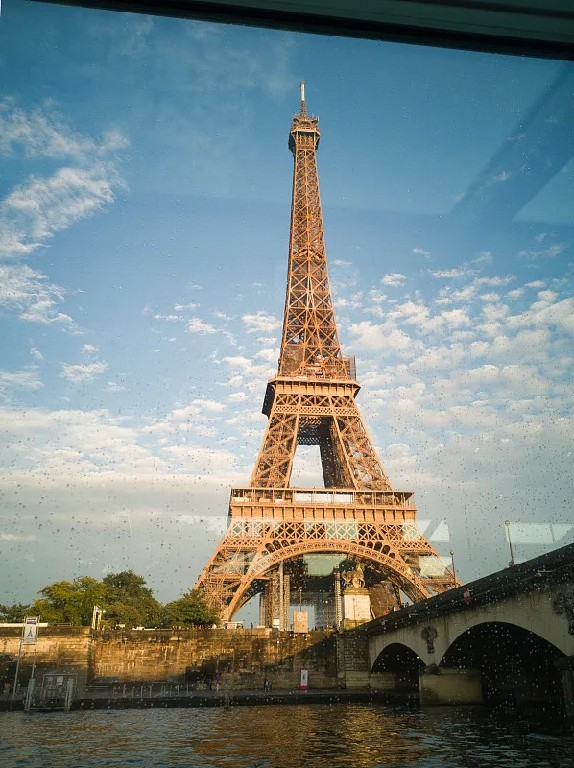Eiffel: (189, 80, 461, 623)
